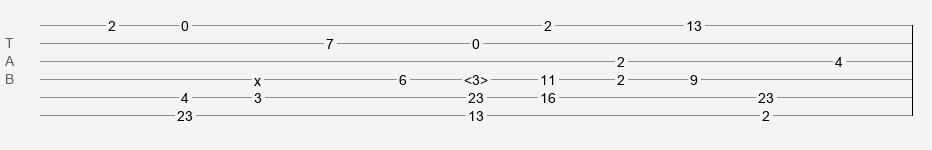0: (181, 18, 189, 28), (472, 36, 480, 46)
11: (540, 72, 556, 82)
13: (468, 108, 484, 118), (686, 18, 702, 28)
16: (540, 90, 556, 100)
2: (108, 18, 116, 28), (544, 18, 552, 28), (617, 72, 625, 82), (617, 54, 625, 64), (762, 108, 770, 118)
23: (177, 108, 193, 118), (468, 90, 484, 100), (758, 90, 774, 100)
3: (254, 90, 262, 100)
4: (181, 90, 189, 100), (835, 54, 843, 64)
6: (399, 72, 407, 82)
7: (326, 36, 334, 46)
9: (690, 72, 698, 82)
harmonic: (464, 72, 488, 82)
x: (254, 73, 261, 81)
